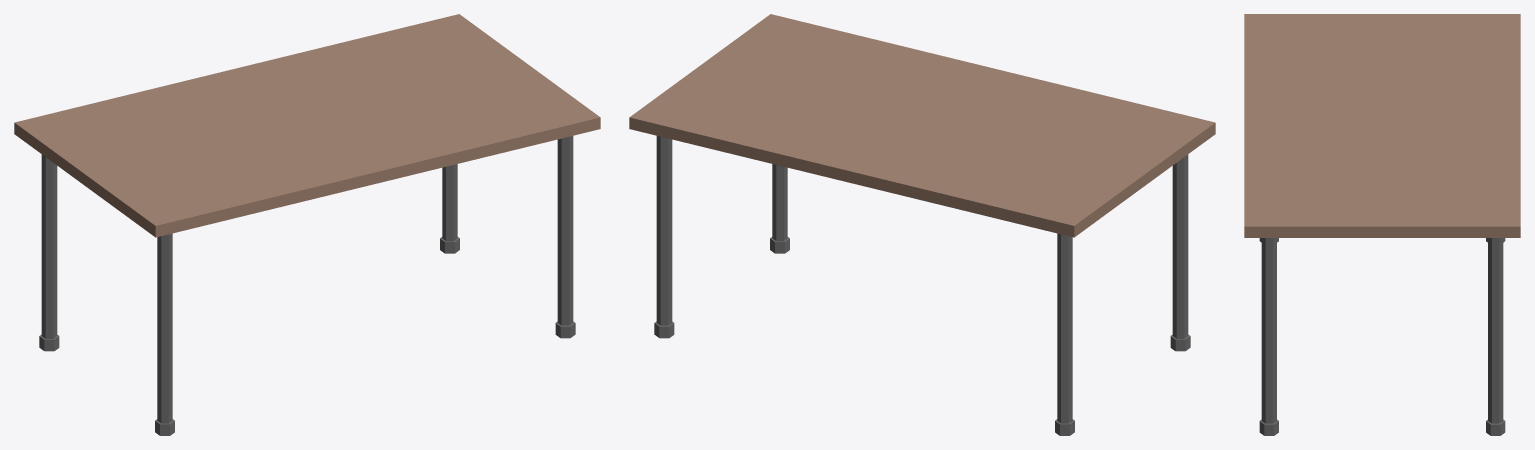
File: table2.fbx
3 renders of one model, left to right at view 1: azimuth 30°, elevation 25°; view 2: azimuth 150°, elevation 25°; view 3: azimuth 270°, elevation 25°, orthographic. The views are drawn at different scales.
Parts seen in each view (by area): view 1: Cube.005; view 2: Cube.005; view 3: Cube.005.
Part boxes in pixels (x1,y1,x2,y2): Cube.005: (14,14,600,435); Cube.005: (629,14,1215,435); Cube.005: (1244,14,1520,435).
Bounding box in the file's own units: 200 × 95 × 110.
